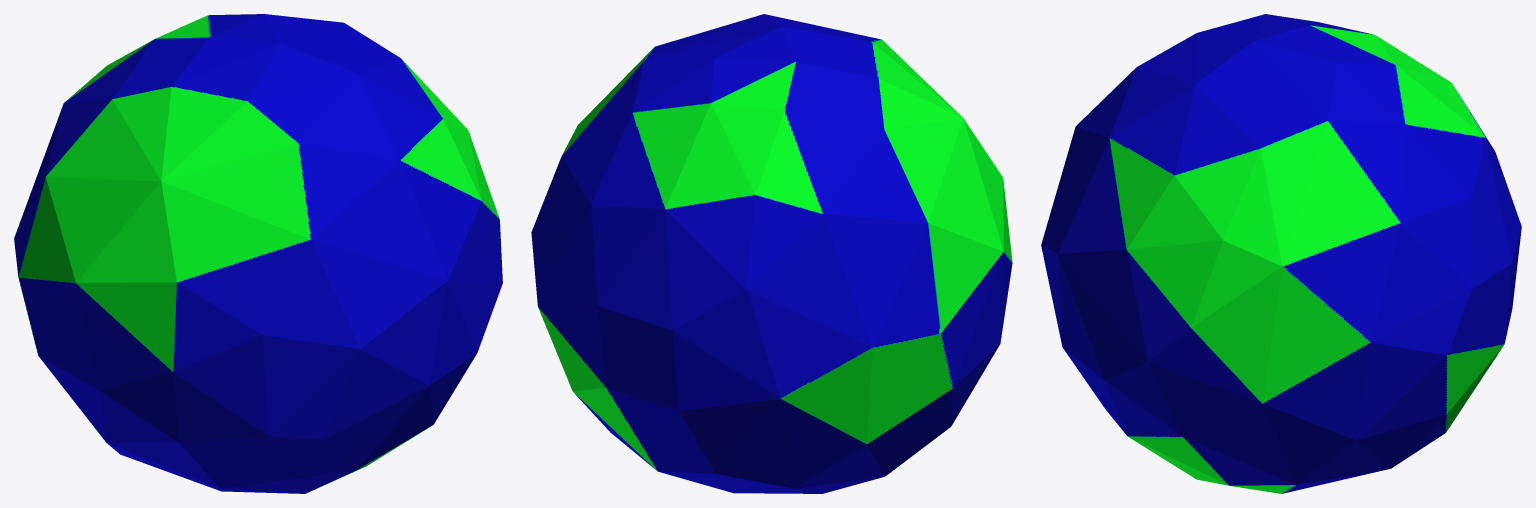
The model's file is earth.glb.
3 views of the same model, side by side, from view 1: azimuth 30°, elevation 25°; view 2: azimuth 150°, elevation 25°; view 3: azimuth 270°, elevation 25° (orthographic).
Visible parts, largest first — view 1: Sphere; view 2: Sphere; view 3: Sphere.
Part boxes in pixels (x1,y1,x2,y2): Sphere: (14, 14, 502, 493); Sphere: (531, 14, 1012, 493); Sphere: (1041, 14, 1521, 493).
Size of the model in its own units: 1.97 by 2 by 2.01.
1 material, 1 textured.
